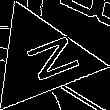N_SW: (8, 30, 75, 88)
